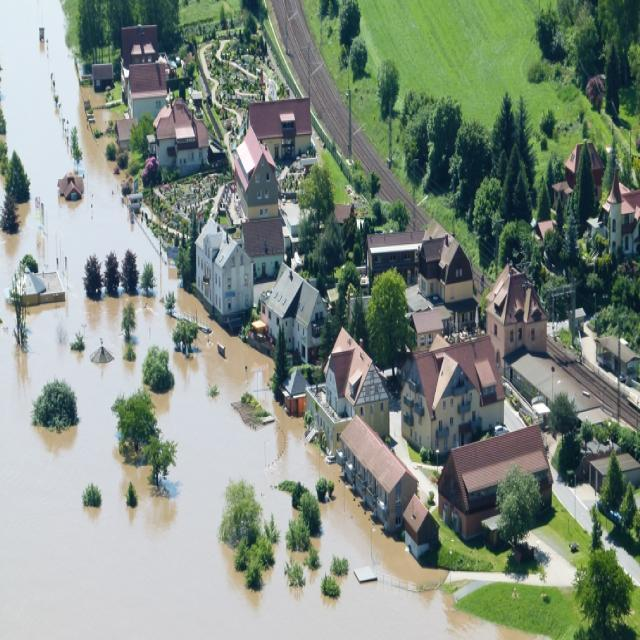flood: (0, 0, 531, 640)
house: (434, 420, 556, 545), (342, 412, 424, 534), (322, 320, 391, 450), (405, 342, 478, 460), (266, 264, 324, 396), (232, 124, 288, 253), (195, 216, 252, 316), (245, 90, 318, 161), (420, 230, 475, 322), (490, 266, 542, 358), (153, 100, 211, 180), (444, 330, 502, 408), (364, 229, 420, 280), (125, 63, 171, 121), (405, 283, 449, 342), (12, 270, 68, 310), (119, 24, 162, 71)
